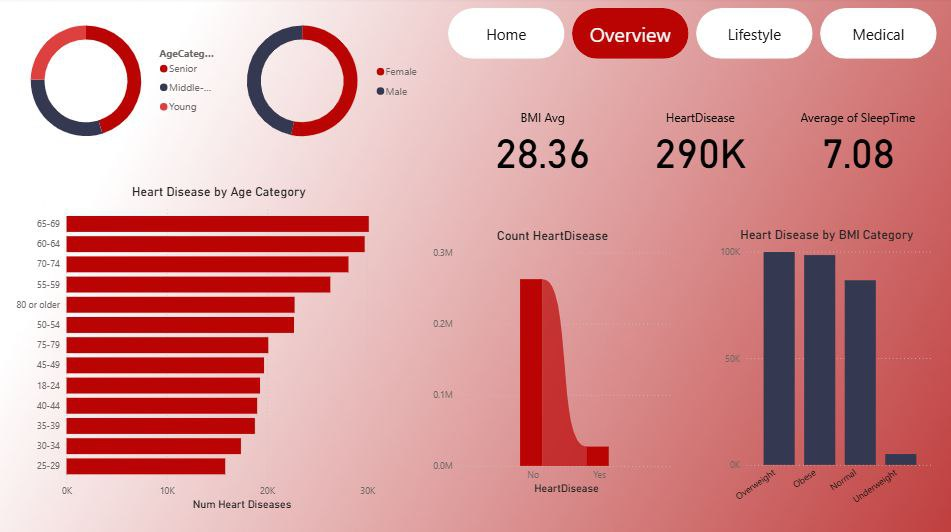

What the dashboard file says about the page in this screenshot:
{"tool":"powerbi","page":{"name":"Overview","canvas":[1280,720],"ordinal":1},"visuals":[{"type":"donutChart","fields":{"Y":["CountNonNull(Sheet1.Sex)"],"Category":["Sheet1.Sex"]},"box":[308.3,15,271.7,195],"z":0},{"type":"barChart","title":"Heart Disease by Age Category","fields":{"Category":["Sheet1.AgeCategory"],"Y":["CountNonNull(Sheet1.HeartDisease)"]},"box":[18.3,250,561.7,441.7],"z":1000},{"type":"clusteredColumnChart","title":"Heart Disease by BMI Category","fields":{"Y":["Sheet1.countHeartDisease"],"Category":["Sheet1.BMI_Category"]},"box":[965,308.3,296.7,393.3],"z":2000},{"type":"ribbonChart","title":"Count HeartDisease","fields":{"Category":["Sheet1.HeartDisease"],"Y":["Sheet1.countHeartDisease"]},"box":[580.7,309,331,361.4],"z":3000},{"type":"donutChart","fields":{"Y":["CountNonNull(Sheet1.SleepCategory)"],"Category":["Sheet1.AgeCategory3"]},"box":[18.3,15,290,195],"z":4000},{"type":"cardVisual","fields":{"Data":["Sheet1.BMIAvg","Sheet1.countHeartDisease","Avg(Sheet1.SleepTime)"]},"box":[626.7,113.3,635,161.7],"z":5000},{"type":"pageNavigator","box":[606.7,15,655,68.3],"z":6000}]}

Visuals, with their boxes in screenshot pixels (x1, y1, x2, y2), scaled from the page's 1280x720 canvas onto the 951x532 screenshot:
donutChart - CountNonNull(Sheet1.Sex) x Sheet1.Sex: <bbox>229, 11, 431, 155</bbox>
"Heart Disease by Age Category" barChart: <bbox>14, 185, 431, 511</bbox>
"Heart Disease by BMI Category" clusteredColumnChart: <bbox>717, 228, 937, 518</bbox>
"Count HeartDisease" ribbonChart: <bbox>431, 228, 677, 495</bbox>
donutChart - CountNonNull(Sheet1.SleepCategory) x Sheet1.AgeCategory3: <bbox>14, 11, 229, 155</bbox>
cardVisual - Sheet1.BMIAvg x Sheet1.countHeartDisease: <bbox>466, 84, 937, 203</bbox>
pageNavigator: <bbox>451, 11, 937, 62</bbox>
